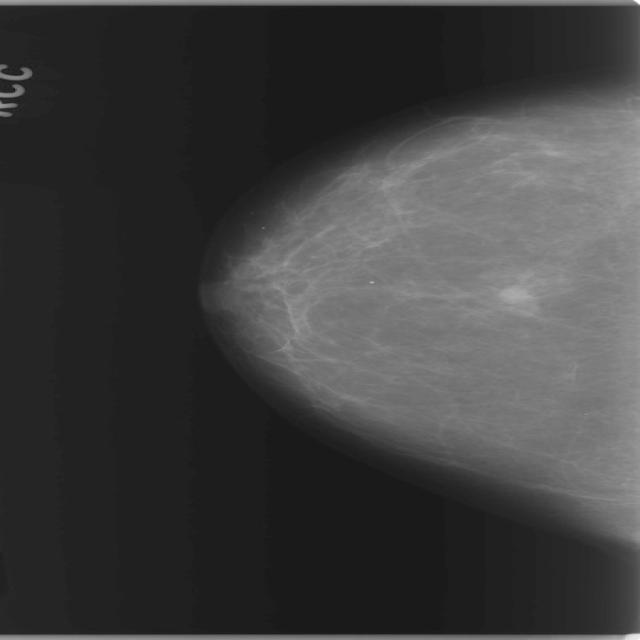tumour: (495, 283, 532, 304)
